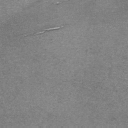finishing roll printing: (34, 25, 66, 35)
